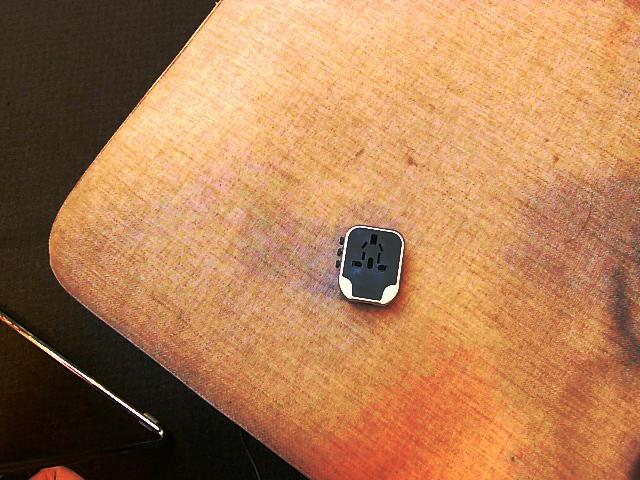adapter: (336, 224, 404, 306)
